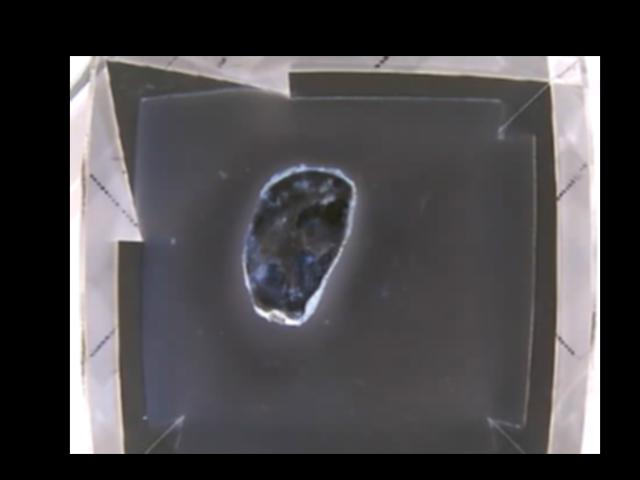Shell: (243, 163, 358, 328)
